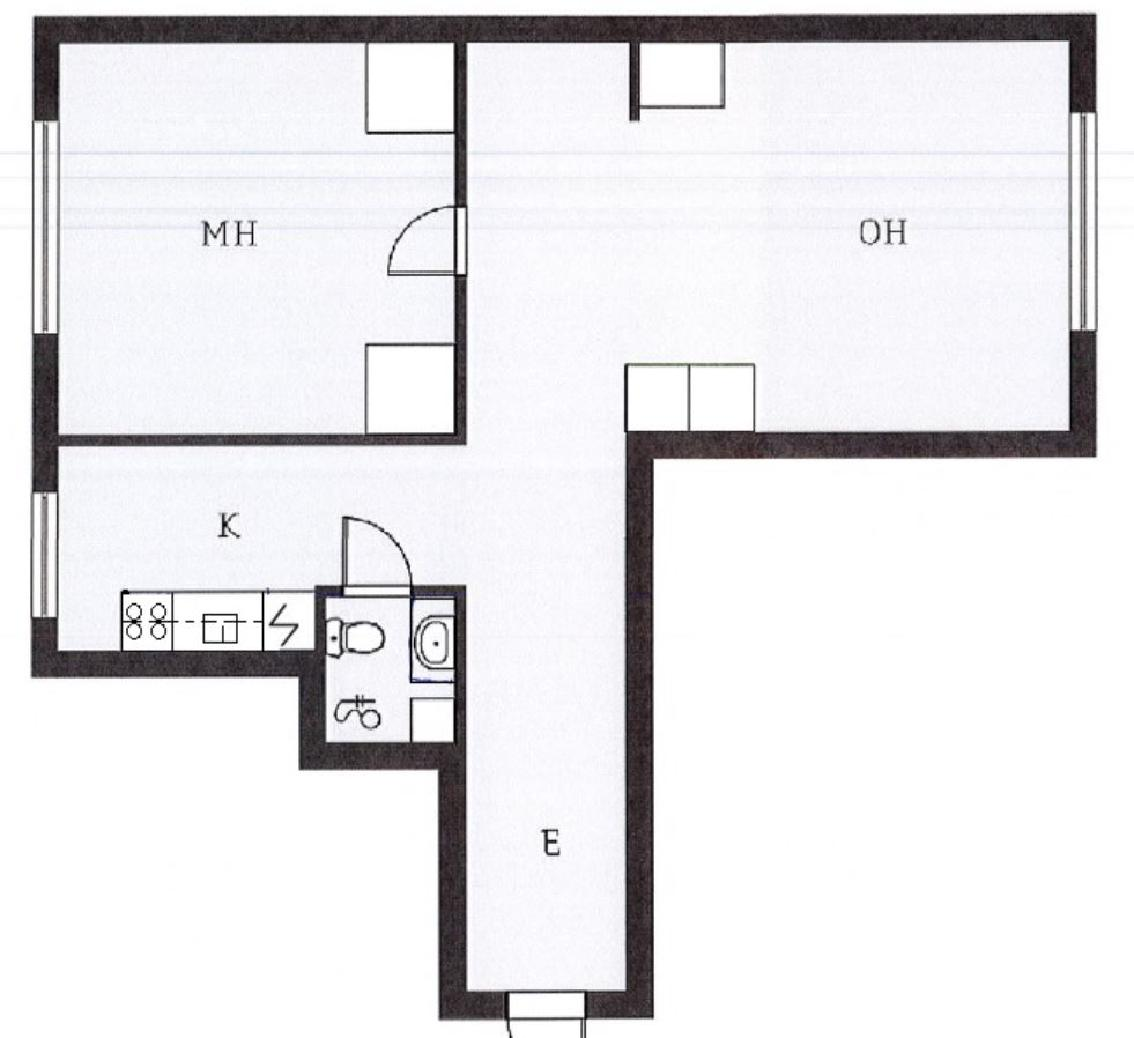door: (375, 200, 484, 280), (337, 512, 413, 602)
window: (1065, 111, 1102, 333), (31, 119, 56, 333), (27, 491, 59, 621)
zone: (50, 35, 1069, 988), (56, 42, 455, 435), (325, 597, 454, 739)
